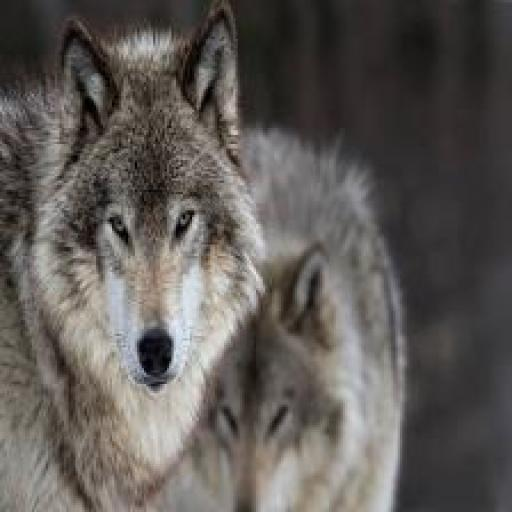wolf: (46, 2, 258, 501)
